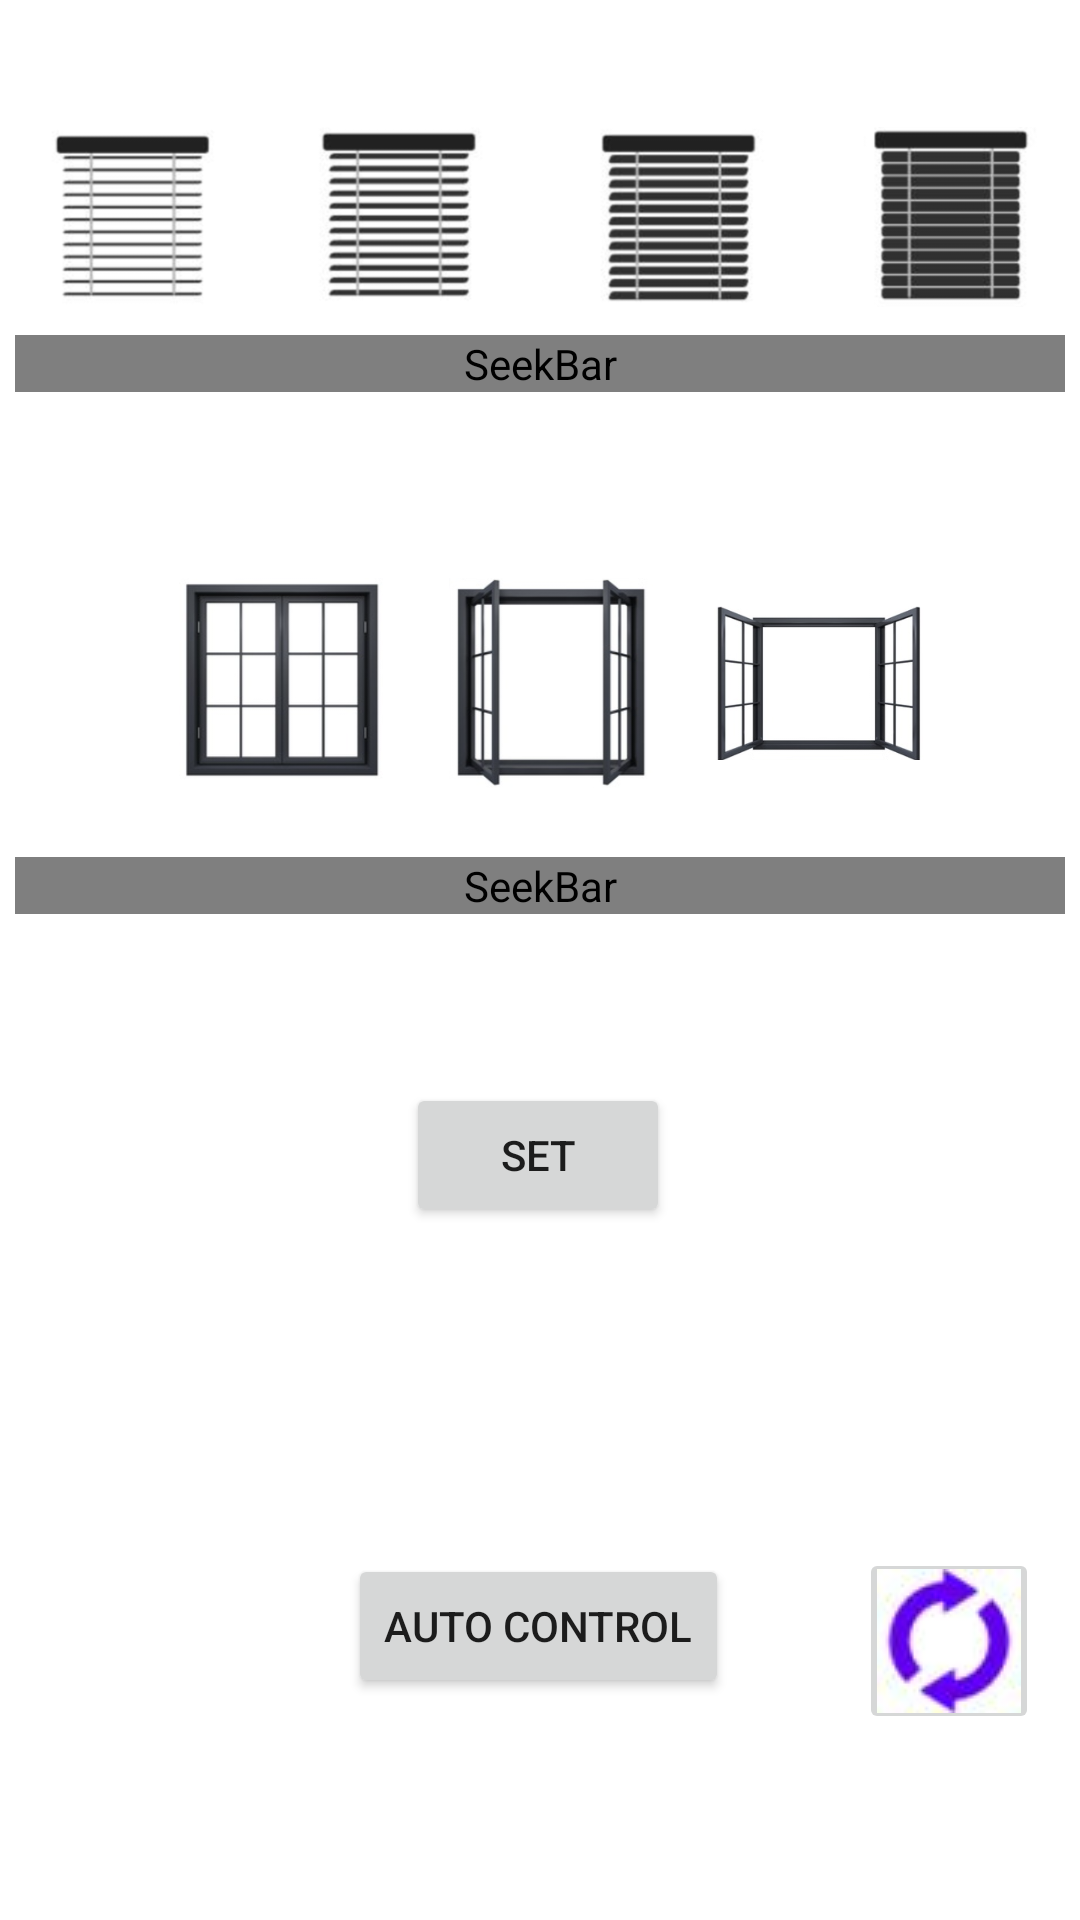

Where icons sit on this 1080*1920 app screen, as (x1, y1, x2, y2):
close: (874, 130, 1028, 300)
open: (56, 135, 210, 297)
refresh: (871, 1566, 1027, 1716)
semiclose: (601, 134, 756, 301)
semiopen: (322, 132, 476, 297)
wclosed: (186, 584, 379, 776)
wopen: (717, 607, 920, 760)
wsemi: (457, 580, 645, 786)
